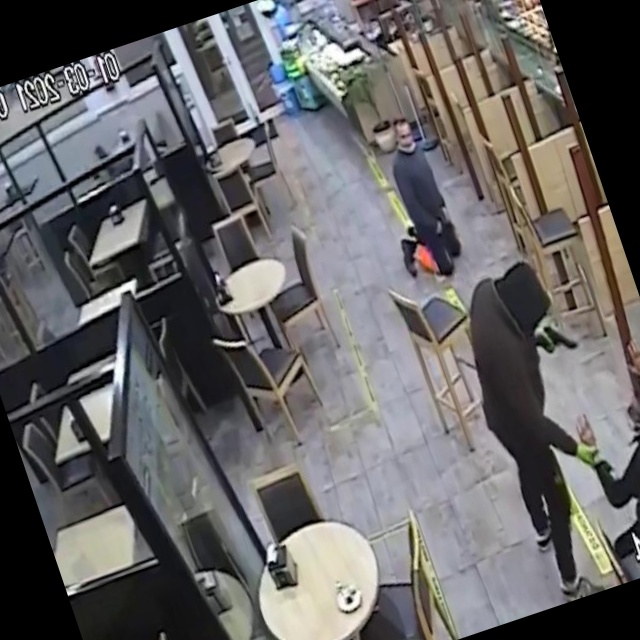gun: (530, 308, 592, 374)
